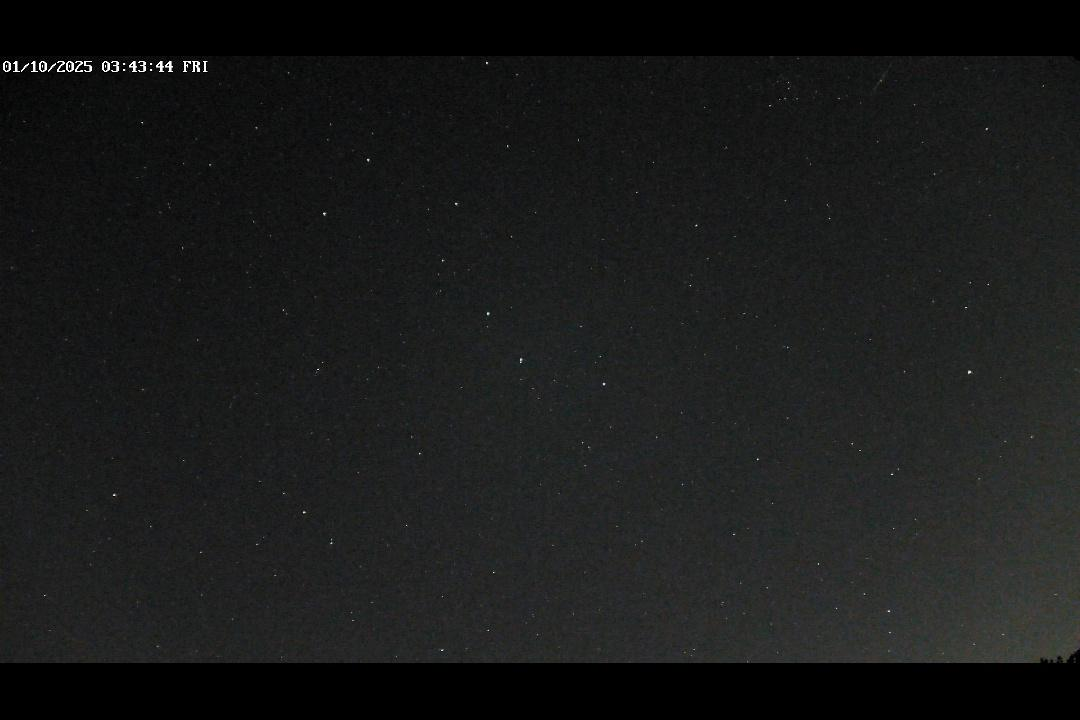meteorite: (866, 60, 898, 93)
